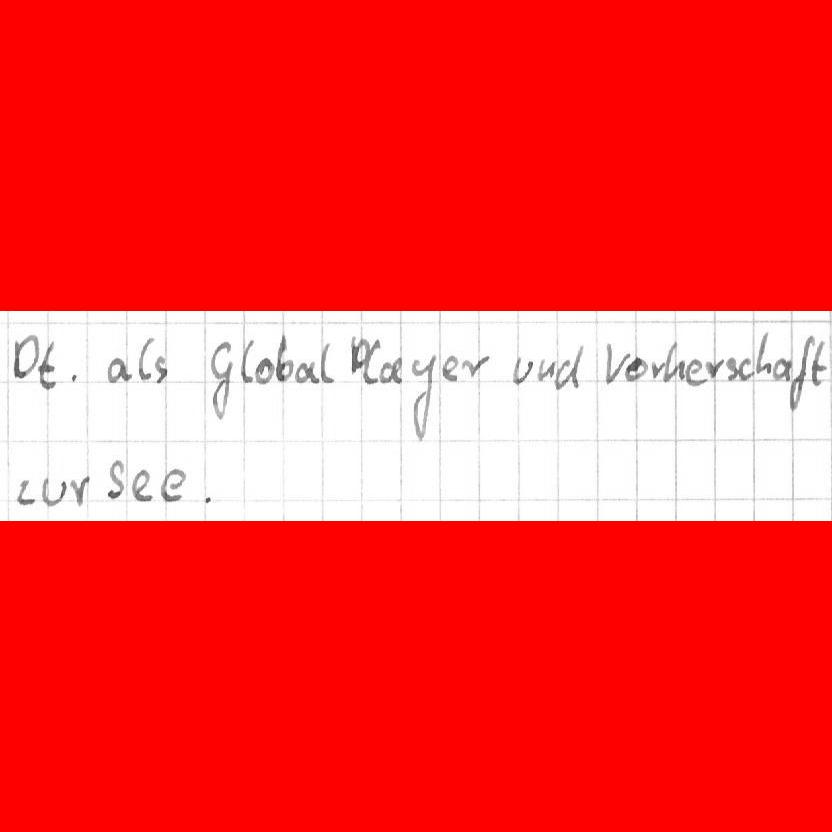Char: (410, 354, 436, 442), (206, 341, 233, 420), (789, 338, 819, 408), (11, 333, 37, 383), (652, 341, 681, 383), (559, 343, 583, 389), (38, 341, 60, 389), (160, 466, 186, 504), (603, 341, 624, 384), (809, 338, 827, 387), (754, 332, 772, 380), (105, 457, 126, 498), (274, 334, 291, 384), (362, 337, 380, 384), (136, 336, 153, 382), (348, 335, 366, 378), (461, 352, 489, 379), (318, 339, 335, 383), (130, 467, 151, 502), (511, 353, 532, 386), (42, 476, 66, 504), (727, 356, 751, 384), (68, 472, 88, 505), (239, 339, 254, 382), (685, 357, 707, 386), (14, 476, 35, 506), (107, 357, 131, 383), (379, 359, 402, 384), (624, 355, 645, 382), (295, 360, 317, 385), (255, 357, 273, 385), (440, 355, 458, 383), (771, 358, 792, 380), (708, 358, 725, 382), (153, 357, 168, 383), (537, 358, 553, 382), (68, 368, 82, 387), (201, 491, 216, 507)
